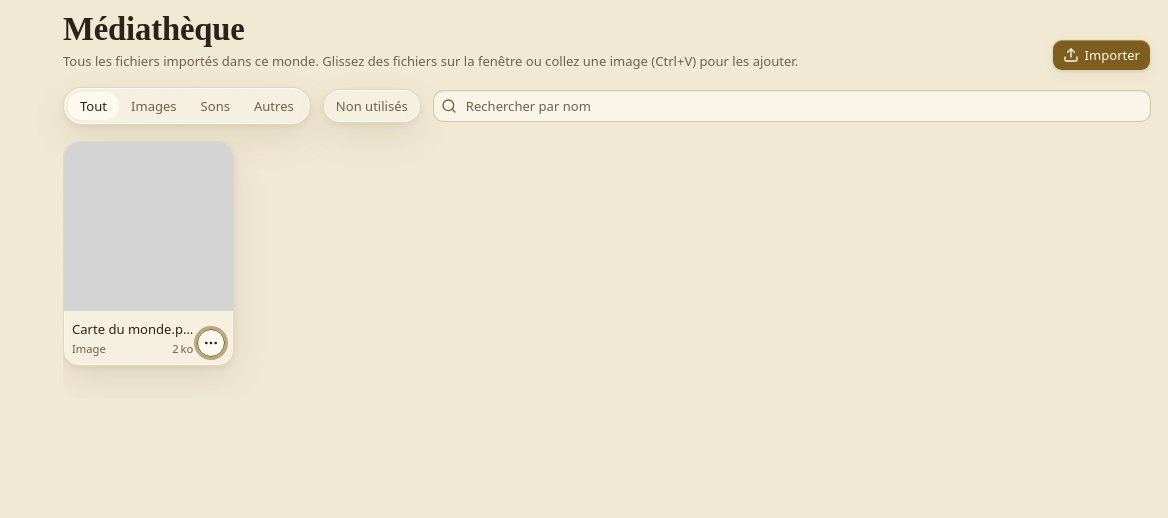
Test case: "Add to the library" copies an image of the world into the library
The width and height of the screenshot is (1168, 518).
Press Enter in the button named "Actions pour Carte du monde.png", box x1=197 y1=329 x2=225 y2=357
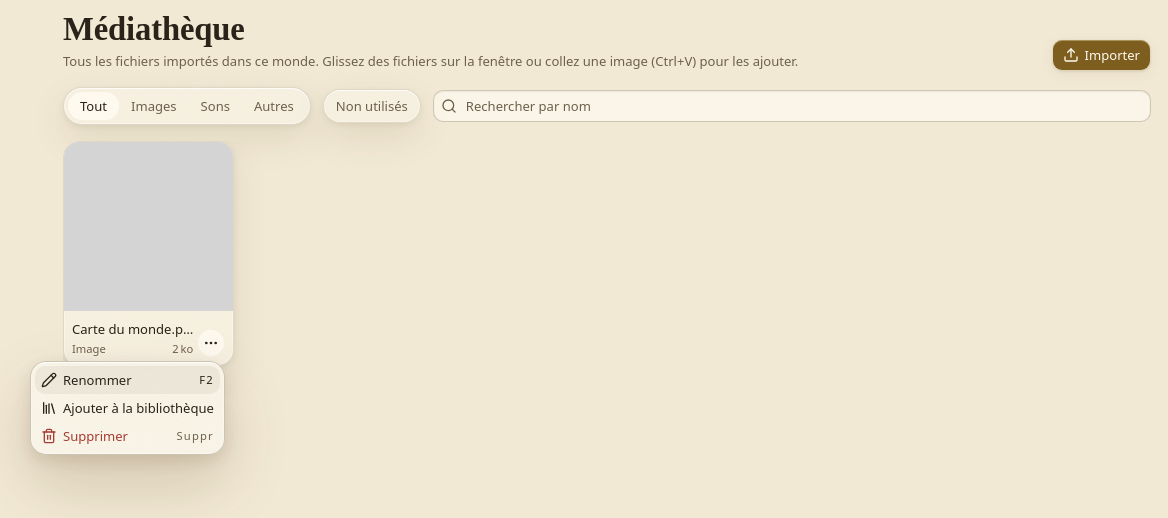
Click the menu item "Ajouter à la bibliothèque": (127,408) x1=35 y1=394 x2=220 y2=422
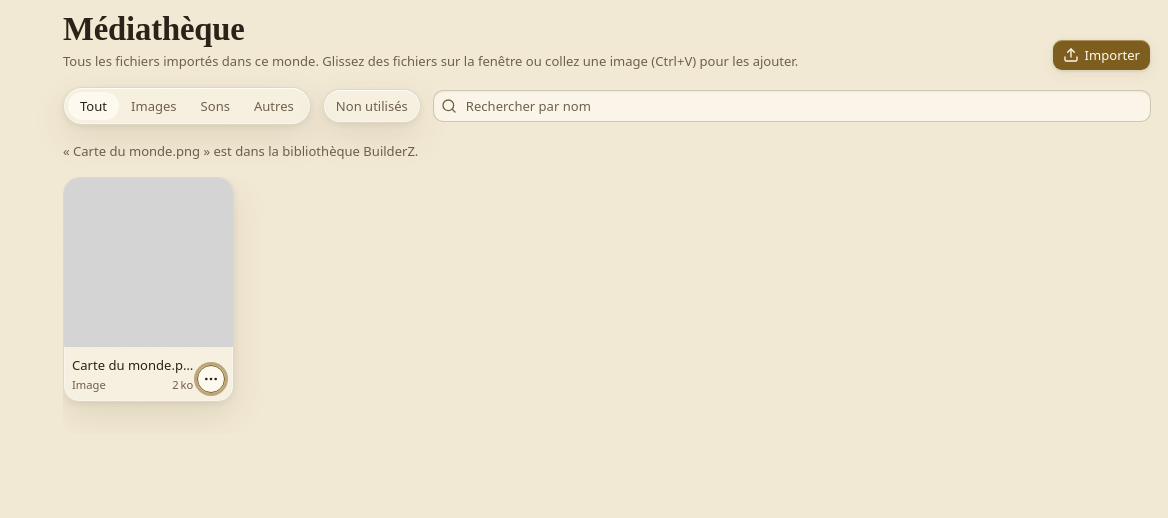
Result: the text "« Carte du monde.png » est dans la bibliothèque BuilderZ." is shown at x1=63 y1=142 x2=418 y2=160
